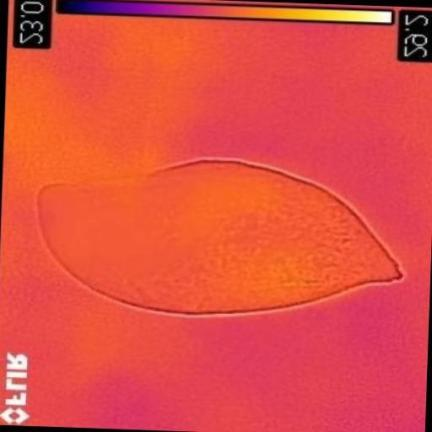mango: (38, 160, 399, 315)
